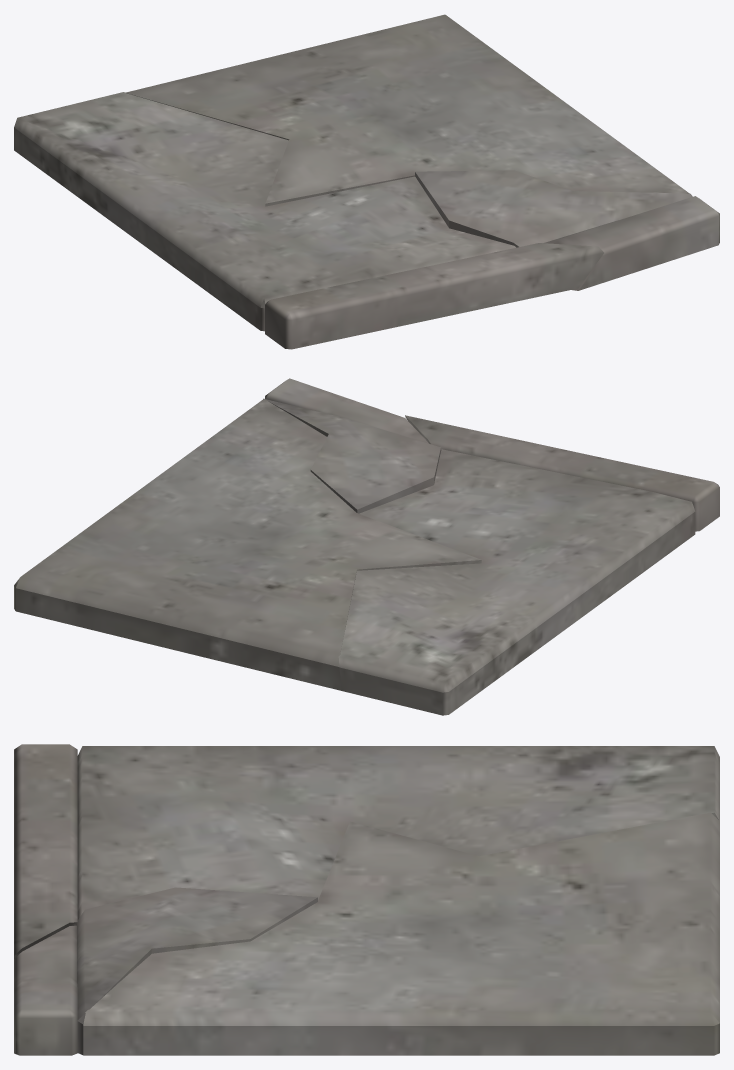
File: SidewalkBroken.glb
3 views of the same model, one above another, from view 1: azimuth 30°, elevation 25°; view 2: azimuth 150°, elevation 25°; view 3: azimuth 270°, elevation 25° (orthographic). The views are drawn at different scales.
Parts seen in each view (by area): view 1: BrokenCurb_SidewalkMat_0; view 2: BrokenCurb_SidewalkMat_0; view 3: BrokenCurb_SidewalkMat_0.
Boxes of the visible parts, x1,y1,x2,y2 form: BrokenCurb_SidewalkMat_0: [14, 14, 719, 349]; BrokenCurb_SidewalkMat_0: [14, 378, 719, 715]; BrokenCurb_SidewalkMat_0: [14, 744, 719, 1055].
Size of the model in its own units: 2.01 by 0.2148 by 2.21.
1 material, 1 textured.
